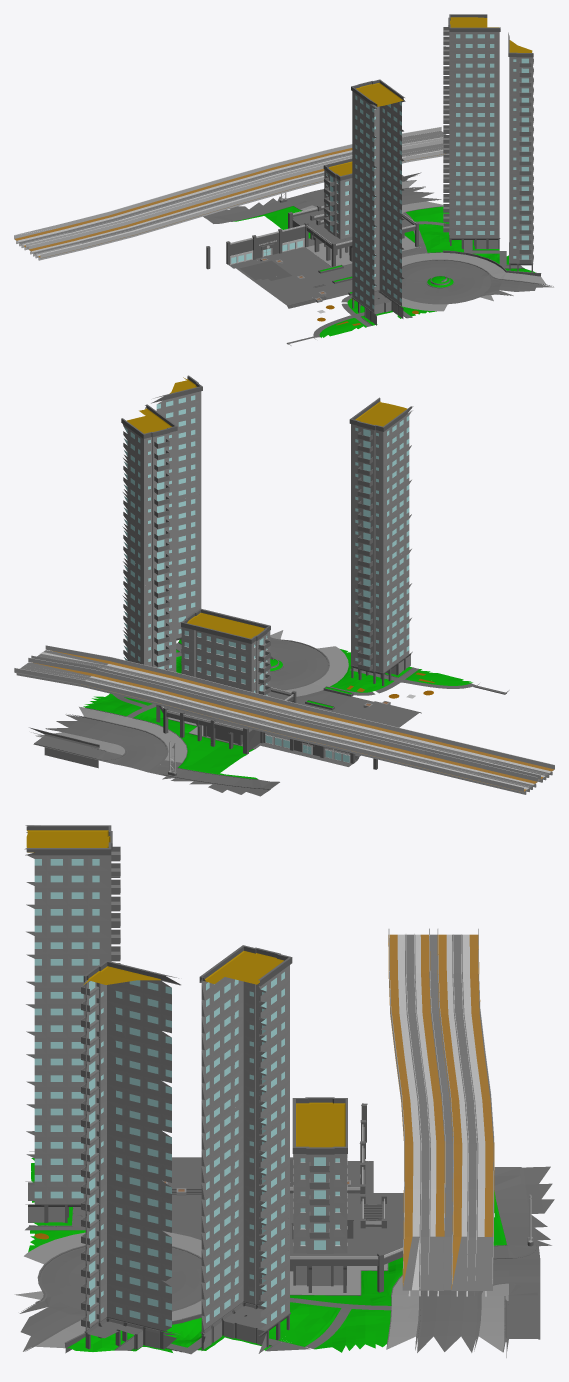
File: bronx_e2_3.FBX
3 views of the same model, one above another, from view 1: azimuth 30°, elevation 25°; view 2: azimuth 150°, elevation 25°; view 3: azimuth 270°, elevation 25° (orthographic). The views are drawn at different scales.
Parts seen in each view (by area): view 1: unnamed, null; view 2: unnamed, null; view 3: unnamed, null.
Boxes of the visible parts, left/top/right/bottom form: unnamed: left=14, top=14, right=553, bottom=345; null: left=203, top=126, right=449, bottom=275; unnamed: left=121, top=375, right=554, bottom=794; null: left=14, top=565, right=372, bottom=796; unnamed: left=14, top=825, right=491, bottom=1354; null: left=277, top=1094, right=554, bottom=1357.
Size of the model in its own units: 172 by 90.15 by 111.
